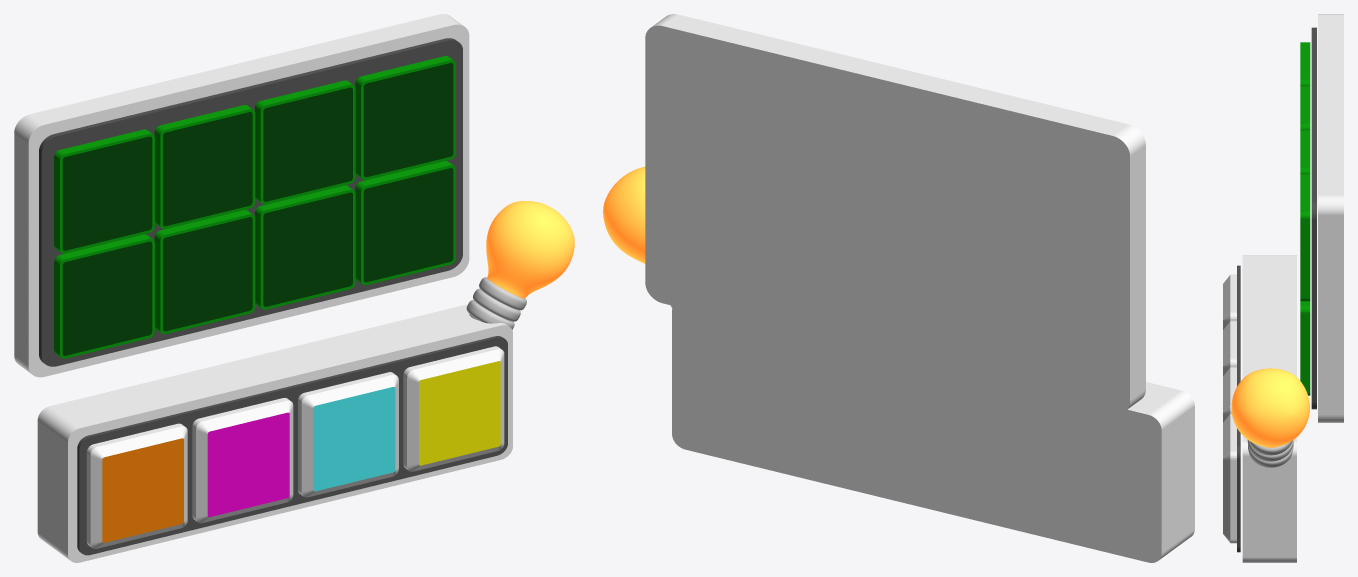
The model's file is BuildUI.fbx.
3 renders of one model, left to right at view 1: azimuth 30°, elevation 25°; view 2: azimuth 150°, elevation 25°; view 3: azimuth 270°, elevation 25°, orthographic. The views are drawn at different scales.
Parts seen in each view (by area): view 1: baseBorder, menuBorder, menuBorderOverlay, baseBut01, baseBut04, baseBut02, baseBut03, menuBut06, menuBut01, menuBut02, menuBut03, menuBut08 (+5 smaller); view 2: menuBorder, baseBorder, Torus.004_Silver Metal_0.001; view 3: baseBorder, menuBorder, Torus.004_Silver Metal_0.001, menuBorderOverlay, baseBut04, menuBut04, menuBut08, baseBorderOverlay, baseBut01, baseBut02, baseBut03, menuBut01 (+2 smaller).
Boxes of the visible parts, x1,y1,x2,y2 form: baseBorder: (37, 304, 512, 562); menuBorder: (14, 14, 469, 377); menuBorderOverlay: (39, 38, 462, 366); baseBut01: (86, 423, 187, 548); baseBut04: (403, 346, 504, 471); baseBut02: (192, 398, 293, 523); baseBut03: (298, 372, 398, 497); menuBut06: (154, 210, 255, 334); menuBut01: (54, 129, 154, 253); menuBut02: (154, 105, 255, 229); menuBut03: (255, 80, 355, 204); menuBut08: (355, 161, 455, 285); menuBorder: (645, 14, 1145, 413); baseBorder: (672, 306, 1194, 562); Torus.004_Silver Metal_0.001: (603, 166, 672, 307); baseBorder: (1242, 255, 1296, 562); menuBorder: (1318, 14, 1343, 422); Torus.004_Silver Metal_0.001: (1231, 368, 1309, 467); menuBorderOverlay: (1311, 27, 1316, 409); baseBut04: (1223, 413, 1236, 543); menuBut04: (1300, 174, 1310, 301); menuBut08: (1300, 301, 1310, 395); baseBorderOverlay: (1237, 265, 1240, 552); baseBut01: (1223, 274, 1236, 329); baseBut02: (1223, 321, 1236, 375); baseBut03: (1223, 367, 1236, 422); menuBut01: (1300, 42, 1310, 86).
Size of the model in its own units: 1060 by 797 by 240.
